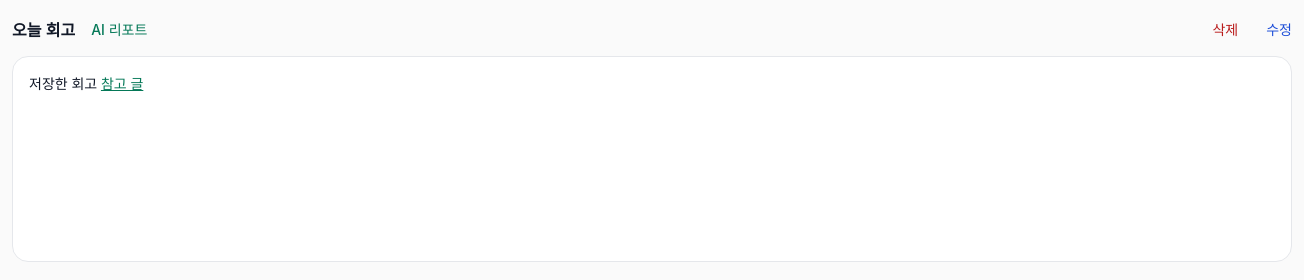
ReviewTextarea › 새 회고 쓰기 › 쓴 회고는 메모처럼 글을 눌러서도 고친다
The width and height of the screenshot is (1304, 280).
expect the text "저장한 회고" is shown: met, box x1=29 y1=75 x2=101 y2=92
Note: 링크를 누르면 편집으로 들어가지 않는다
What coordinates should you click on to do the following:
click the link "참고 글"
I would click on:
 (122, 84)
Its box is x1=101 y1=75 x2=143 y2=92.
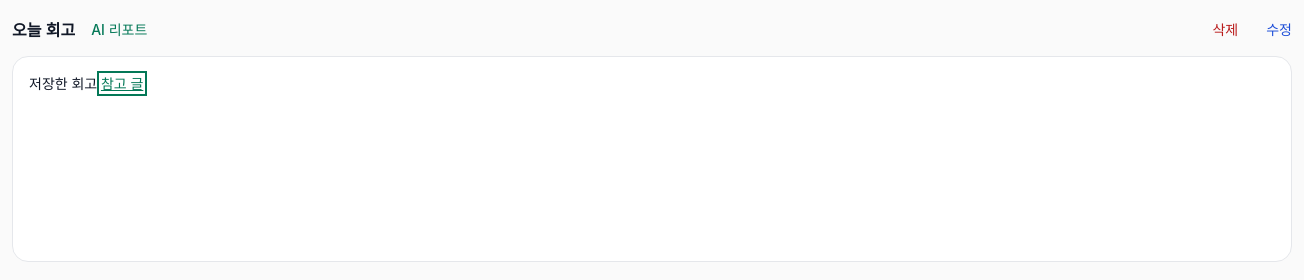
What coordinates should you click on to do the following:
click the text "저장한 회고"
I would click on:
 (86, 84)
Its box is x1=29 y1=75 x2=143 y2=92.
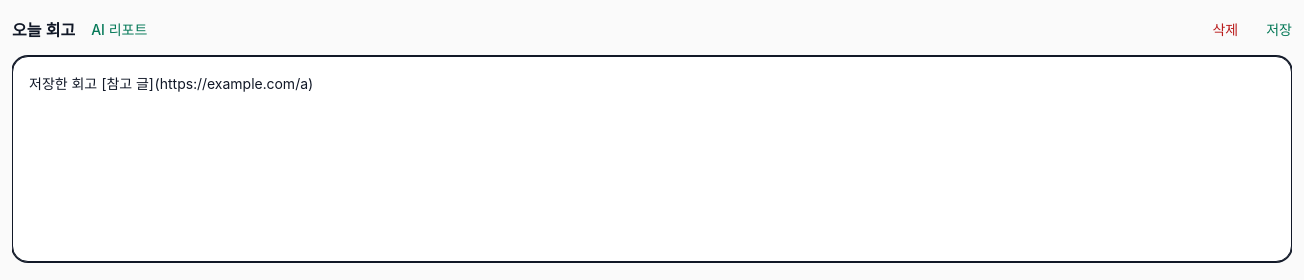
expect the text box holds "저장한 회고 [참고 글](https://example.com/a)": met, box x1=29 y1=73 x2=1275 y2=193
